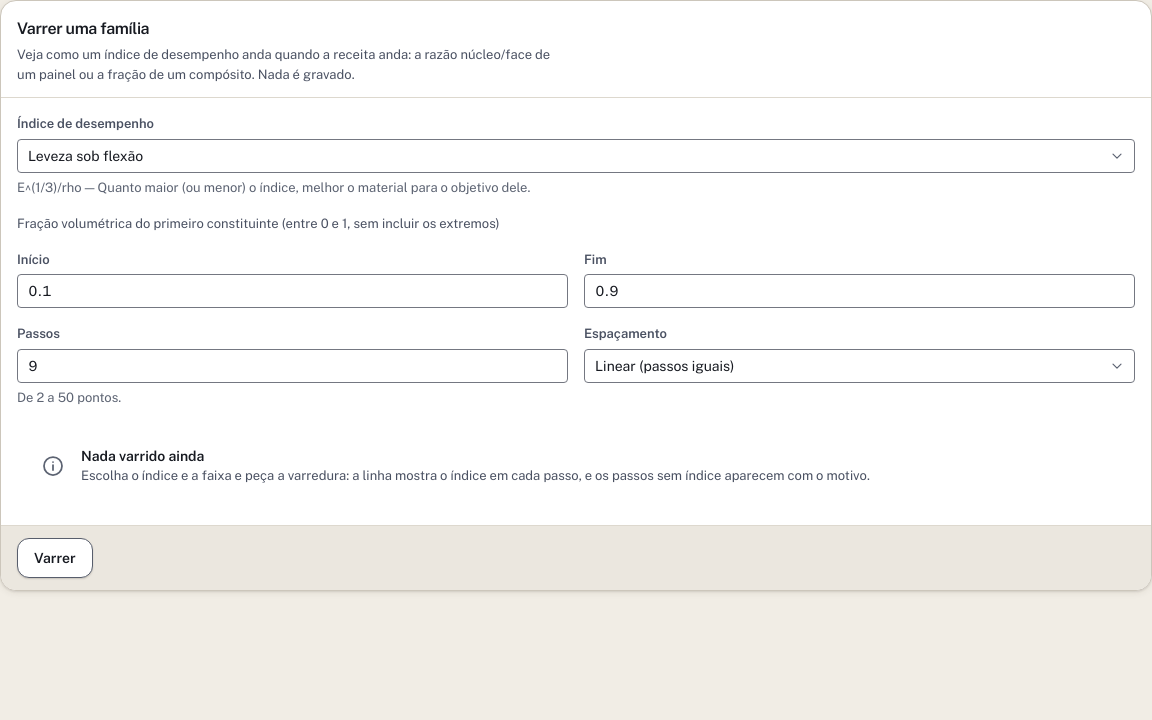
Scenario: Varrer (D-144) › mostra em pt-BR o erro 400, 404 e 422
Check: the text "Índice de desempenho" is shown, box [17,116,154,131]
Click the button "Varrer".
click(55, 558)  # box [17,538,93,578]
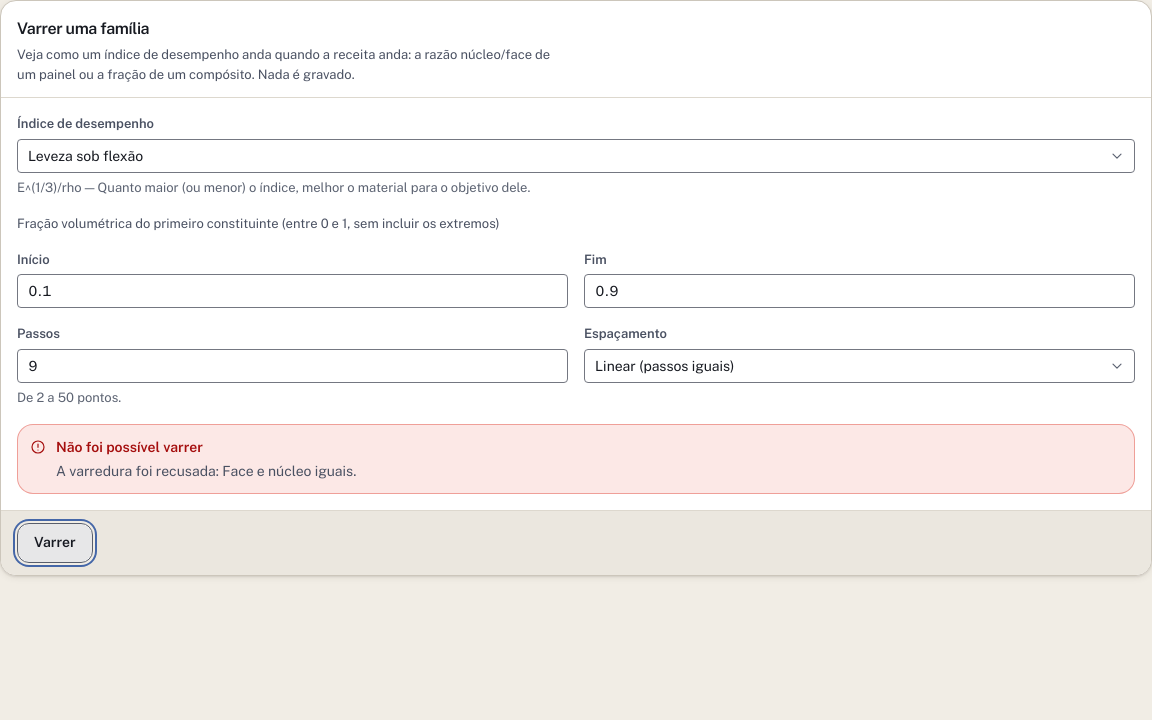
Check: the text "Não foi possível varrer" is shown, box [56,438,203,454]
